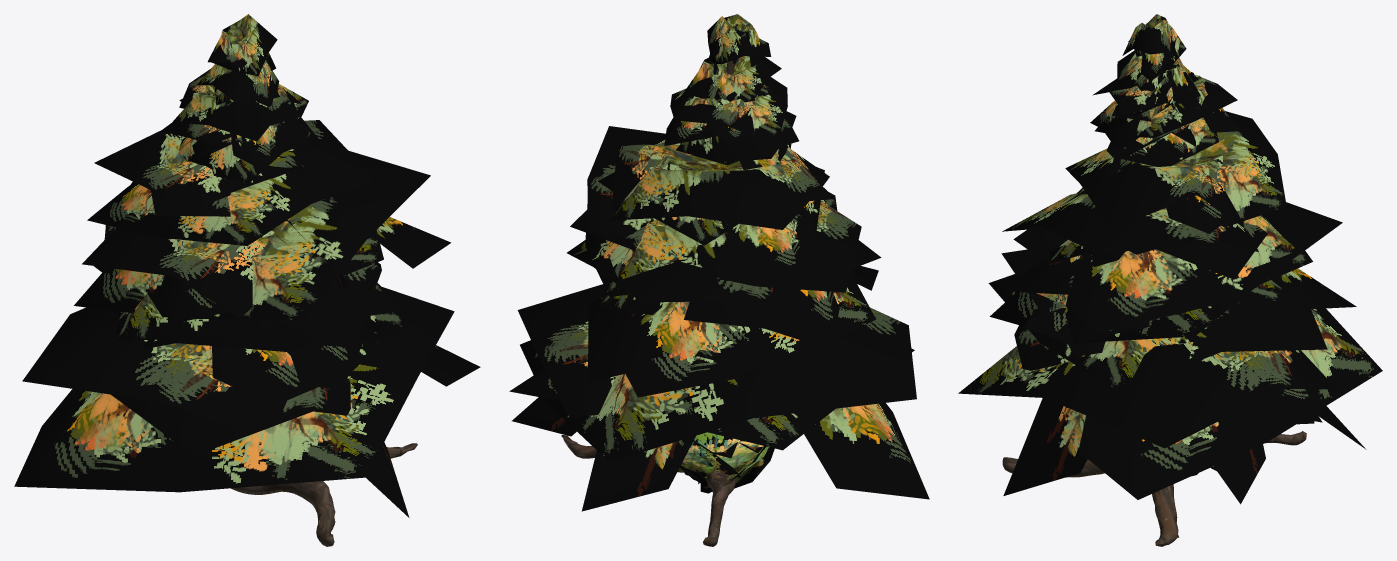
Rendered from Arbolitos.fbx.
3 views of the same model, side by side, from view 1: azimuth 30°, elevation 25°; view 2: azimuth 150°, elevation 25°; view 3: azimuth 270°, elevation 25° (orthographic). The views are drawn at different scales.
Parts seen in each view (by area): view 1: Treerbolito; view 2: Treerbolito, Bushido; view 3: Treerbolito.
Part boxes in pixels (x1,y1,x2,y2): Treerbolito: (14,14,480,546); Treerbolito: (509,14,929,546); Bushido: (677,432,774,493); Treerbolito: (958,14,1382,546).
Size of the model in its own units: 162 by 168 by 142.
